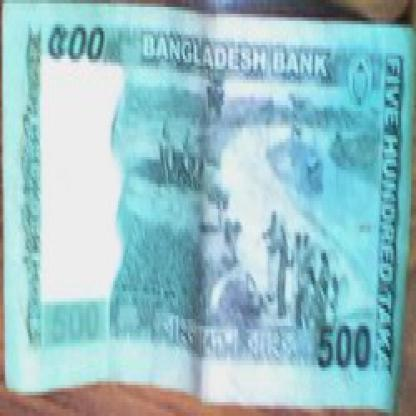500 taka: (314, 319, 384, 385), (43, 24, 120, 70)
currency: (9, 17, 404, 409)
